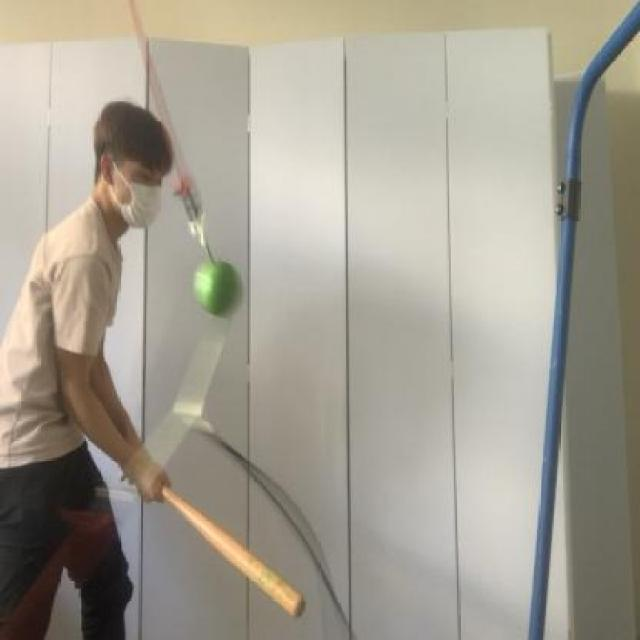baseball: (182, 250, 244, 328)
